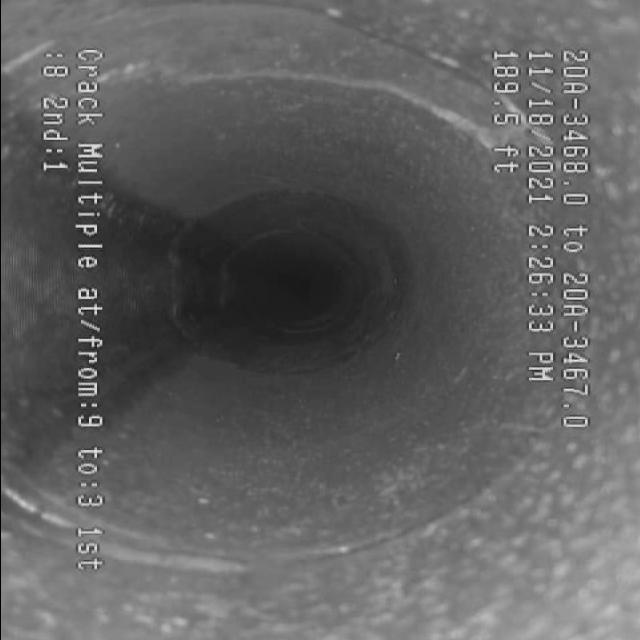Crack: (170, 56, 479, 138)
